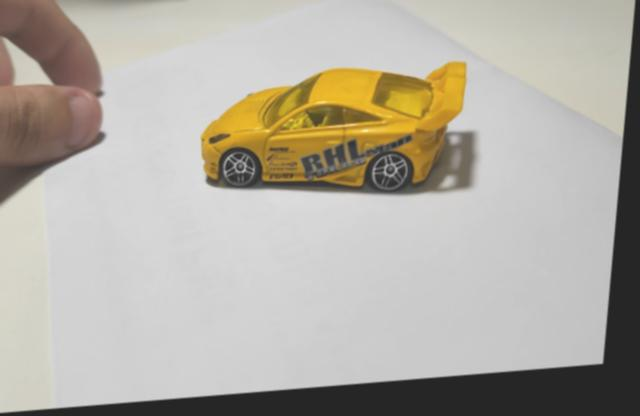07_RHLTURBO: (203, 70, 470, 202)
